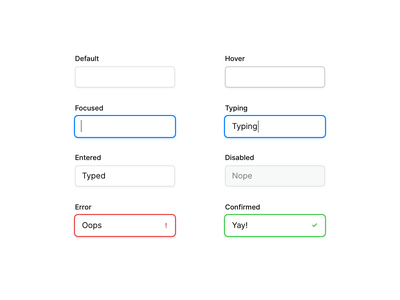error_field: (73, 213, 177, 238)
